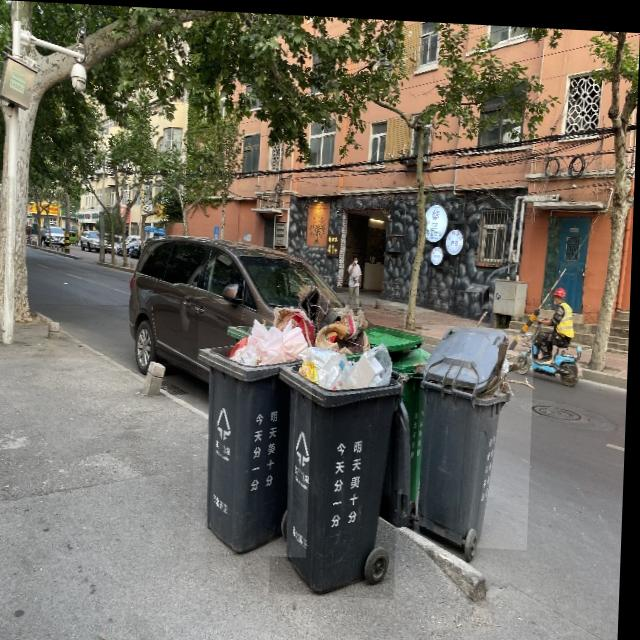overflow: (273, 297, 407, 595), (194, 299, 317, 554), (418, 320, 537, 544)
